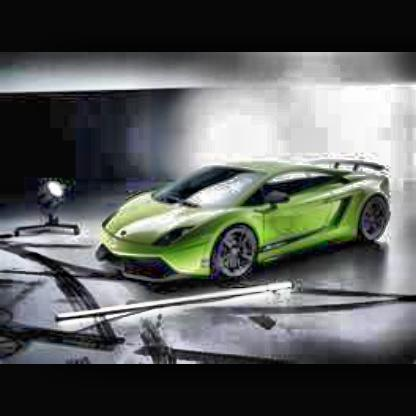Lamborghini Gallardo LP 570-4 Superleggera 2012: (100, 167, 394, 288)
